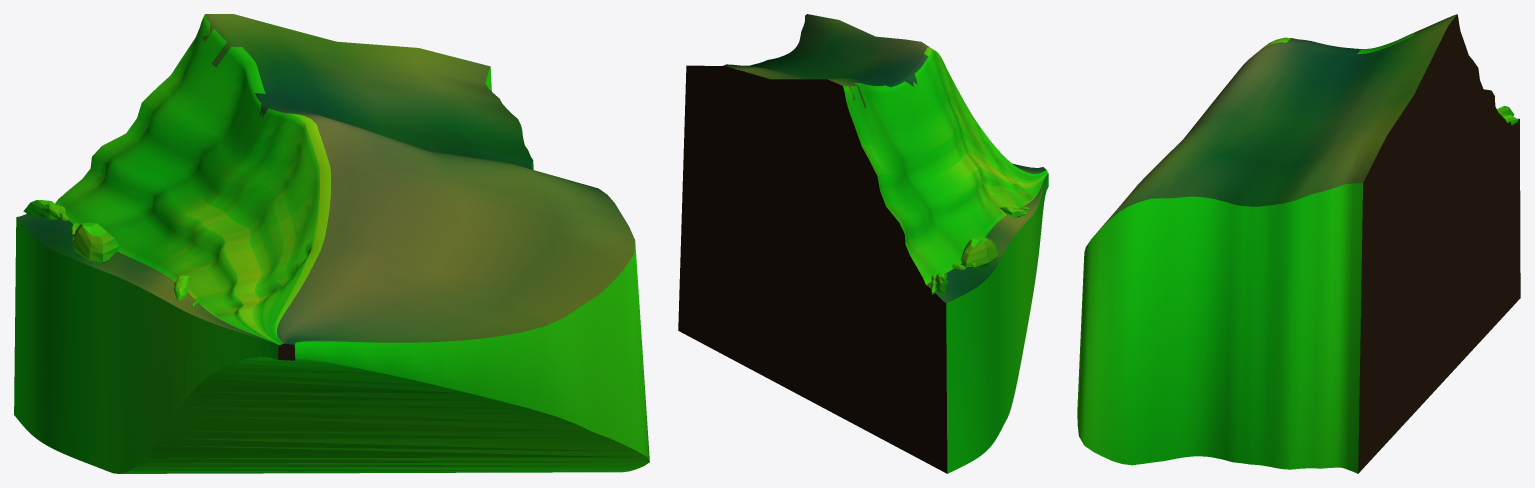
The model's file is SM_ForestRisingCliffs_20.fbx.
3 views of the same model, side by side, from view 1: azimuth 30°, elevation 25°; view 2: azimuth 150°, elevation 25°; view 3: azimuth 270°, elevation 25° (orthographic). The views are drawn at different scales.
Visible parts, largest first — view 1: SM_ForestRisingCliffs_20; view 2: SM_ForestRisingCliffs_20; view 3: SM_ForestRisingCliffs_20.
Part boxes in pixels (box(x1,y1,x2,y2)): SM_ForestRisingCliffs_20: box(14, 14, 649, 473); SM_ForestRisingCliffs_20: box(678, 14, 1048, 473); SM_ForestRisingCliffs_20: box(1077, 14, 1520, 473).
Size of the model in its own units: 53.37 by 54.88 by 48.31.
